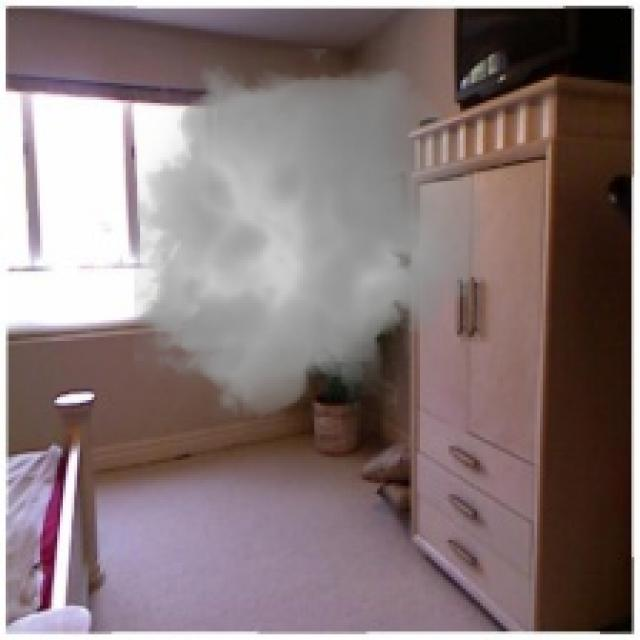smoke: (117, 49, 494, 432)
